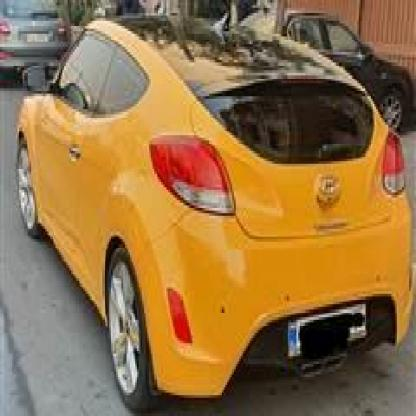Car: (17, 0, 411, 416), (239, 5, 416, 146), (0, 0, 80, 94)
